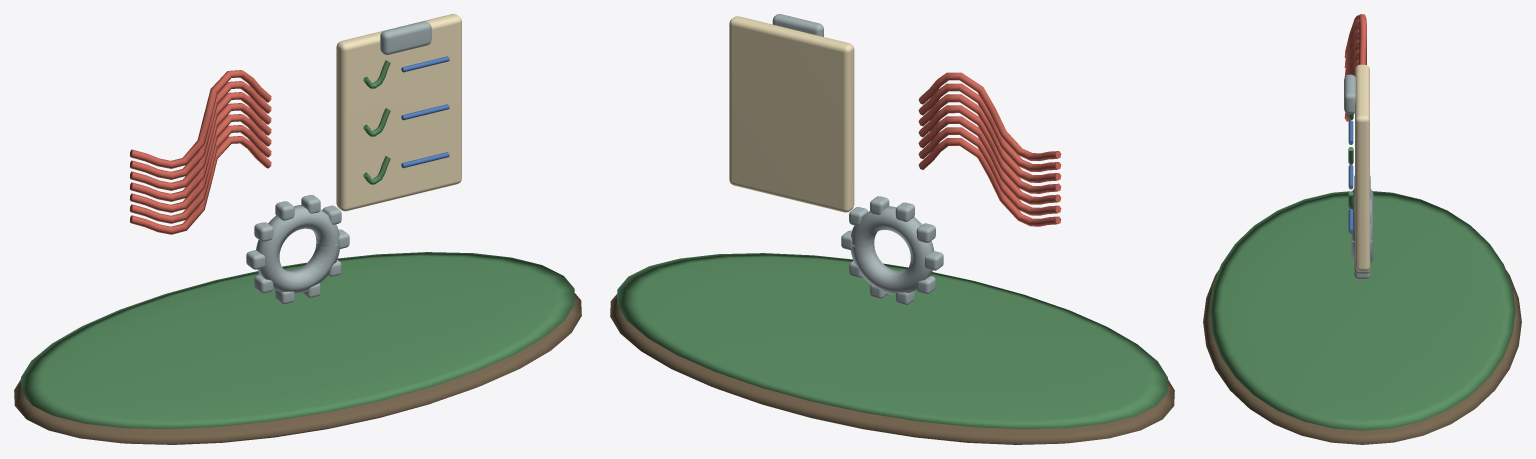
File: complete-second-thread-tested-experience.glb
3 renders of one model, left to right at view 1: azimuth 30°, elevation 25°; view 2: azimuth 150°, elevation 25°; view 3: azimuth 270°, elevation 25°, orthographic. The views are drawn at different scales.
Visible parts, largest first — view 1: complete-second-thread-tested-experience_surface_01, complete-second-thread-tested-experience_surface_03, complete-second-thread-tested-experience_surface_02, complete-second-thread-tested-experience_surface_00, complete-second-thread-tested-experience_surface_04, complete-second-thread-tested-experience_surface_05; view 2: complete-second-thread-tested-experience_surface_01, complete-second-thread-tested-experience_surface_03, complete-second-thread-tested-experience_surface_02, complete-second-thread-tested-experience_surface_00, complete-second-thread-tested-experience_surface_04; view 3: complete-second-thread-tested-experience_surface_01, complete-second-thread-tested-experience_surface_00, complete-second-thread-tested-experience_surface_03, complete-second-thread-tested-experience_surface_04, complete-second-thread-tested-experience_surface_02, complete-second-thread-tested-experience_surface_05.
Boxes of the visible parts, box(x1,y1,x2,y2) form: complete-second-thread-tested-experience_surface_01: box(21, 60, 574, 429); complete-second-thread-tested-experience_surface_03: box(336, 14, 461, 211); complete-second-thread-tested-experience_surface_02: box(129, 70, 271, 234); complete-second-thread-tested-experience_surface_00: box(14, 293, 581, 444); complete-second-thread-tested-experience_surface_04: box(246, 21, 431, 304); complete-second-thread-tested-experience_surface_05: box(401, 56, 449, 168); complete-second-thread-tested-experience_surface_01: box(617, 253, 1167, 429); complete-second-thread-tested-experience_surface_03: box(729, 16, 854, 212); complete-second-thread-tested-experience_surface_02: box(918, 72, 1061, 226); complete-second-thread-tested-experience_surface_00: box(610, 294, 1174, 444); complete-second-thread-tested-experience_surface_04: box(772, 14, 943, 304); complete-second-thread-tested-experience_surface_01: box(1209, 113, 1515, 430); complete-second-thread-tested-experience_surface_00: box(1203, 270, 1521, 444); complete-second-thread-tested-experience_surface_03: box(1355, 64, 1369, 271); complete-second-thread-tested-experience_surface_04: box(1344, 74, 1373, 278); complete-second-thread-tested-experience_surface_02: box(1344, 14, 1366, 121); complete-second-thread-tested-experience_surface_05: box(1348, 120, 1353, 233).
Bounding box in the file's own units: 4.56 × 2.59 × 2.5.
